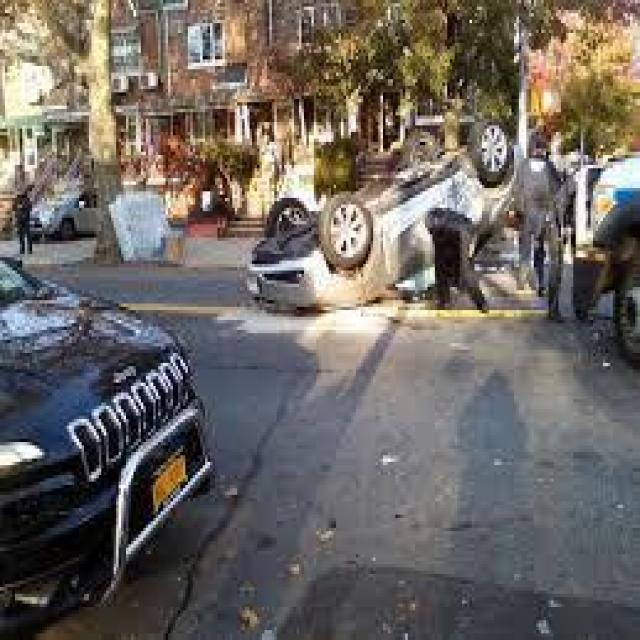accident: (245, 120, 531, 315)
